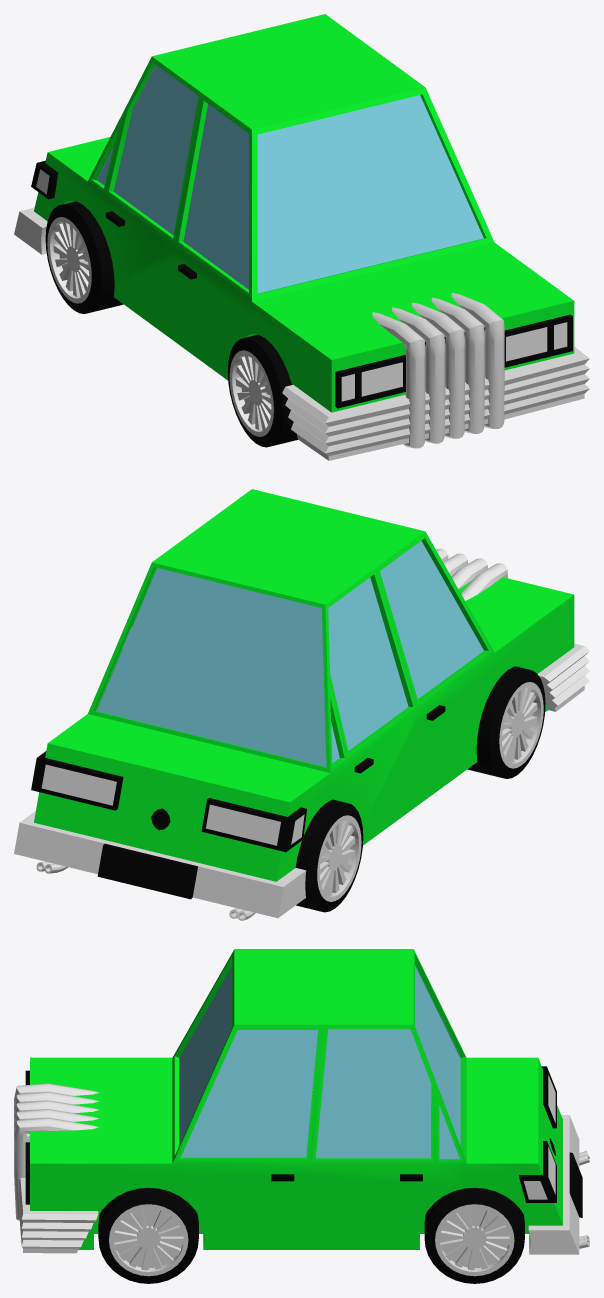
The model's file is carlopolyyy.fbx.
3 views of the same model, one above another, from view 1: azimuth 30°, elevation 25°; view 2: azimuth 150°, elevation 25°; view 3: azimuth 270°, elevation 25° (orthographic). The views are drawn at different scales.
Visible parts, largest first — view 1: Cube.006, Cylinder.004, Cylinder.003; view 2: Cube.006, Cylinder.003, Cylinder.004; view 3: Cube.006, Cylinder.001, Cylinder.002.
Part boxes in pixels (left/top/right/bottom): Cube.006: left=14, top=14, right=589, bottom=460; Cylinder.004: left=45, top=201, right=123, bottom=313; Cylinder.003: left=227, top=334, right=297, bottom=447; Cube.006: left=14, top=489, right=589, bottom=920; Cylinder.003: left=468, top=666, right=545, bottom=778; Cylinder.004: left=295, top=799, right=363, bottom=912; Cube.006: left=14, top=949, right=589, bottom=1254; Cylinder.001: left=424, top=1187, right=524, bottom=1283; Cylinder.002: left=98, top=1187, right=198, bottom=1283.
Bounding box in the file's own units: 222 × 211 × 460.
